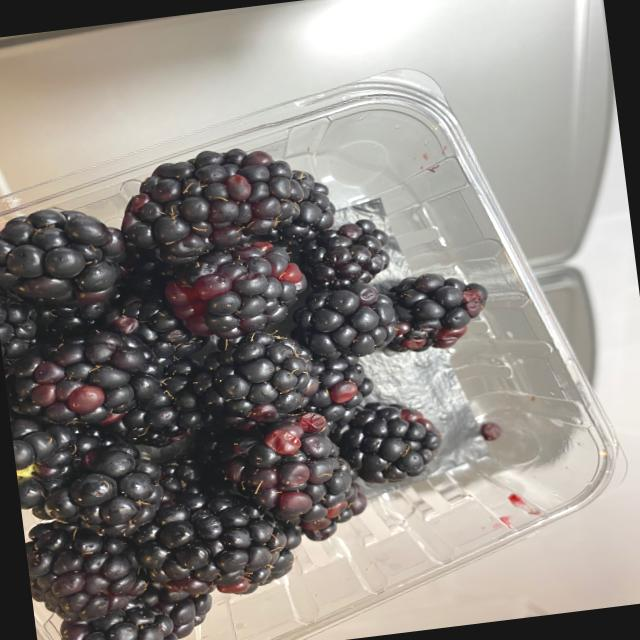blackberries: (0, 113, 534, 640)
